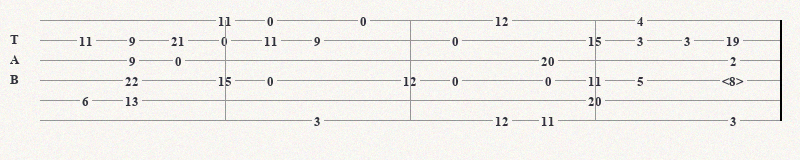0: (175, 54, 186, 67), (221, 34, 232, 47), (267, 14, 278, 27), (267, 74, 278, 87), (360, 14, 371, 27), (452, 34, 463, 47), (452, 74, 463, 87), (545, 74, 556, 87)
11: (79, 34, 97, 47), (218, 14, 236, 27), (264, 34, 282, 47), (541, 114, 559, 127), (588, 74, 606, 87)
12: (403, 74, 421, 87), (495, 114, 513, 127), (495, 14, 513, 27)
13: (125, 94, 143, 107)
15: (218, 74, 236, 87), (588, 34, 606, 47)
19: (726, 34, 744, 47)
2: (730, 54, 741, 67)
20: (541, 54, 559, 67), (588, 94, 606, 107)
21: (171, 34, 189, 47)
22: (125, 74, 143, 87)
3: (314, 114, 325, 127), (637, 34, 648, 47), (684, 34, 695, 47), (730, 114, 741, 127)
4: (637, 14, 648, 27)
5: (637, 74, 648, 87)
6: (82, 94, 93, 107)
9: (129, 34, 140, 47), (129, 54, 140, 67), (314, 34, 325, 47)
harmonic: (722, 74, 748, 87)
